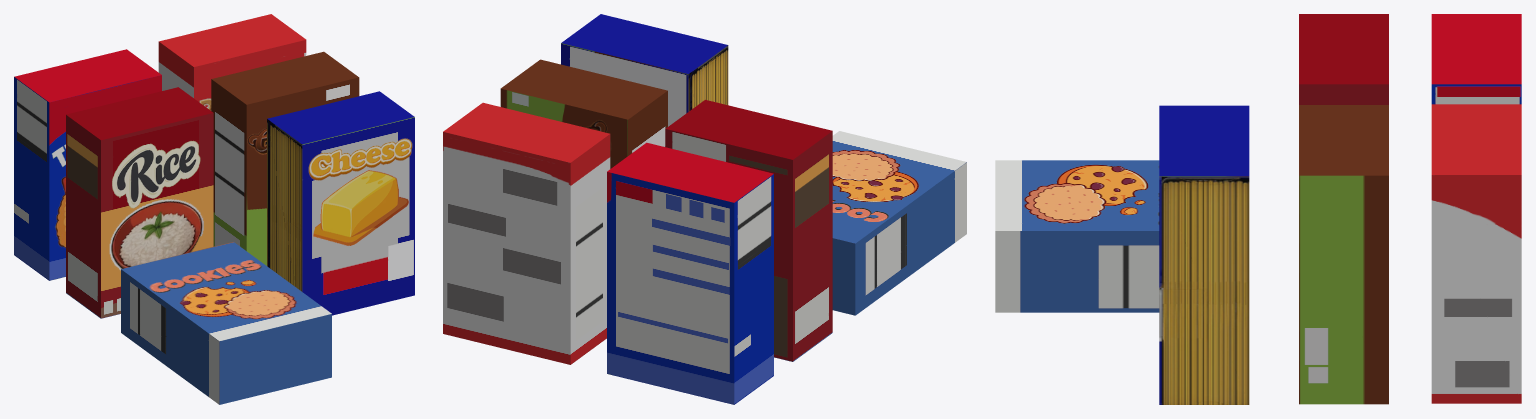
Rendered from rice.fbx.
3 renders of one model, left to right at view 1: azimuth 30°, elevation 25°; view 2: azimuth 150°, elevation 25°; view 3: azimuth 270°, elevation 25°, orthographic. The views are drawn at different scales.
Visible parts, largest first — view 1: Cube.017, Cube.013, Cube.014, Cube.015, Cube.016, Cube.019; view 2: Cube.015, Cube.019, Cube.013, Cube.014, Cube.017, Cube.016; view 3: Cube.019, Cube.017, Cube.016, Cube.014, Cube.015, Cube.013.
Boxes of the visible parts, x1,y1,x2,y2 form: Cube.017: (267,91,414,315); Cube.013: (66,87,213,318); Cube.014: (121,242,331,404); Cube.015: (14,49,161,280); Cube.016: (211,51,359,265); Cube.019: (158,14,306,110); Cube.015: (607,142,773,404); Cube.019: (443,102,610,364); Cube.013: (665,99,832,361); Cube.014: (832,131,966,315); Cube.017: (561,14,728,126); Cube.016: (500,59,667,168); Cube.019: (1431,104,1521,403); Cube.017: (1159,105,1249,404); Cube.016: (1299,105,1388,404); Cube.014: (995,160,1159,312); Cube.015: (1431,14,1521,104); Cube.013: (1299,14,1388,104).
Size of the model in its own units: 36.75 by 24.17 by 50.42.
1 material, 1 textured.
